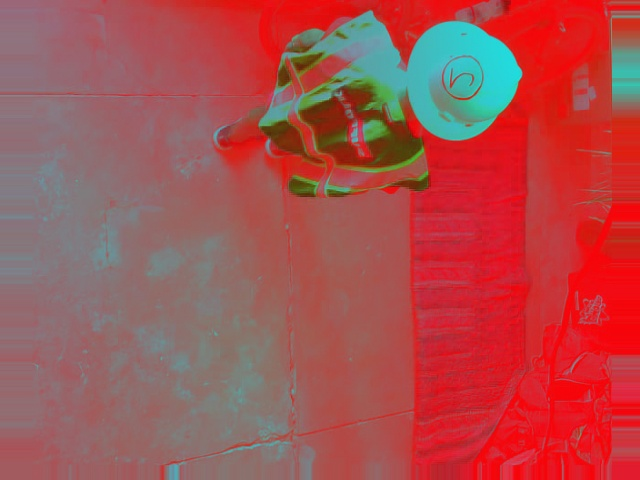two: (441, 53, 485, 99)
